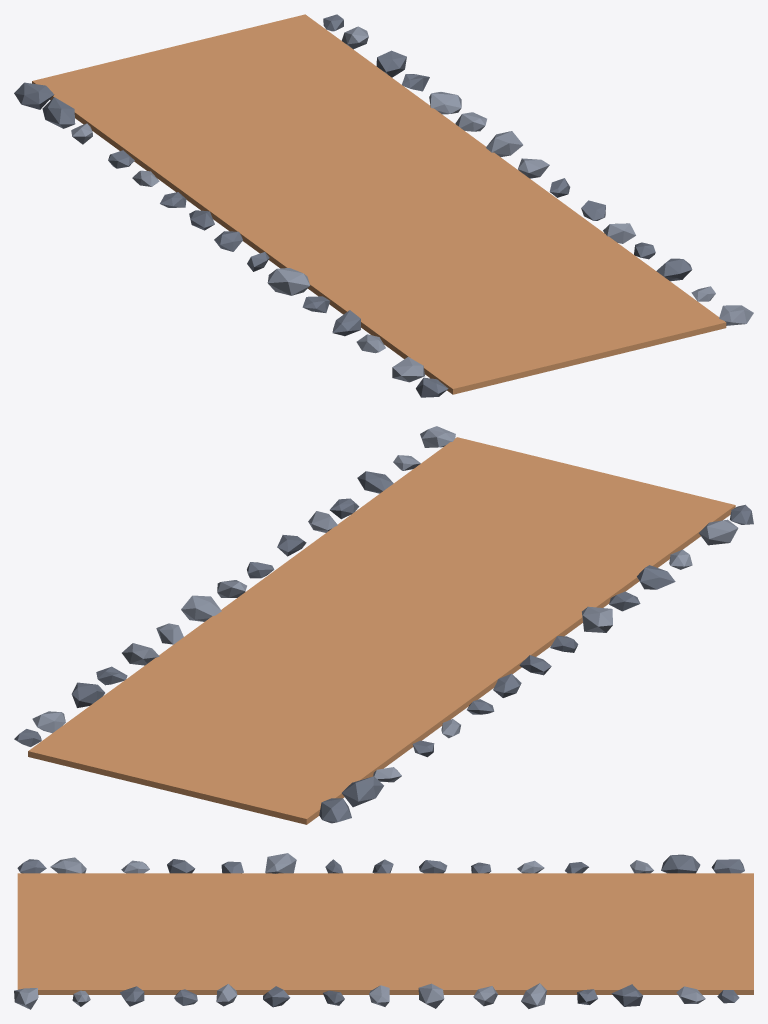
Rendered from camino_recto_8m.glb.
The picture shows the model from 3 angles, top to bottom: view 1: azimuth 30°, elevation 25°; view 2: azimuth 150°, elevation 25°; view 3: azimuth 270°, elevation 25°; orthographic projection. The views are drawn at different scales.
Parts seen in each view (by area): view 1: suelo, borde_19, borde_1, borde_3, borde_14; view 2: suelo, borde_3, borde_14, borde_19, borde_27, borde_1; view 3: suelo, borde_3, borde_19, borde_14, borde_6, borde_10, borde_27, borde_1, borde_30, borde_20, borde_4, borde_16 (+8 smaller).
Boxes of the visible parts, x1=… form: suelo: x1=32, y1=14, x2=726, y2=394; borde_19: x1=267, y1=268, x2=310, y2=295; borde_1: x1=14, y1=82, x2=54, y2=109; borde_3: x1=42, y1=97, x2=75, y2=128; borde_14: x1=486, y1=131, x2=522, y2=156; suelo: x1=28, y1=437, x2=735, y2=824; borde_3: x1=342, y1=776, x2=383, y2=807; borde_14: x1=181, y1=595, x2=221, y2=621; borde_19: x1=582, y1=606, x2=612, y2=632; borde_27: x1=699, y1=519, x2=738, y2=545; borde_1: x1=319, y1=798, x2=351, y2=823; suelo: x1=17, y1=873, x2=753, y2=994; borde_3: x1=661, y1=854, x2=700, y2=873; borde_19: x1=265, y1=853, x2=296, y2=873; borde_14: x1=418, y1=983, x2=444, y2=1008; borde_6: x1=611, y1=984, x2=642, y2=1006; borde_10: x1=521, y1=983, x2=546, y2=1008; borde_27: x1=50, y1=857, x2=86, y2=873; borde_1: x1=711, y1=859, x2=744, y2=873; borde_30: x1=14, y1=988, x2=38, y2=1009; borde_20: x1=263, y1=986, x2=290, y2=1007; borde_4: x1=676, y1=986, x2=705, y2=1003; borde_16: x1=369, y1=985, x2=389, y2=1006.
Size of the model in its own units: 3.71 by 0.2572 by 8.04.
